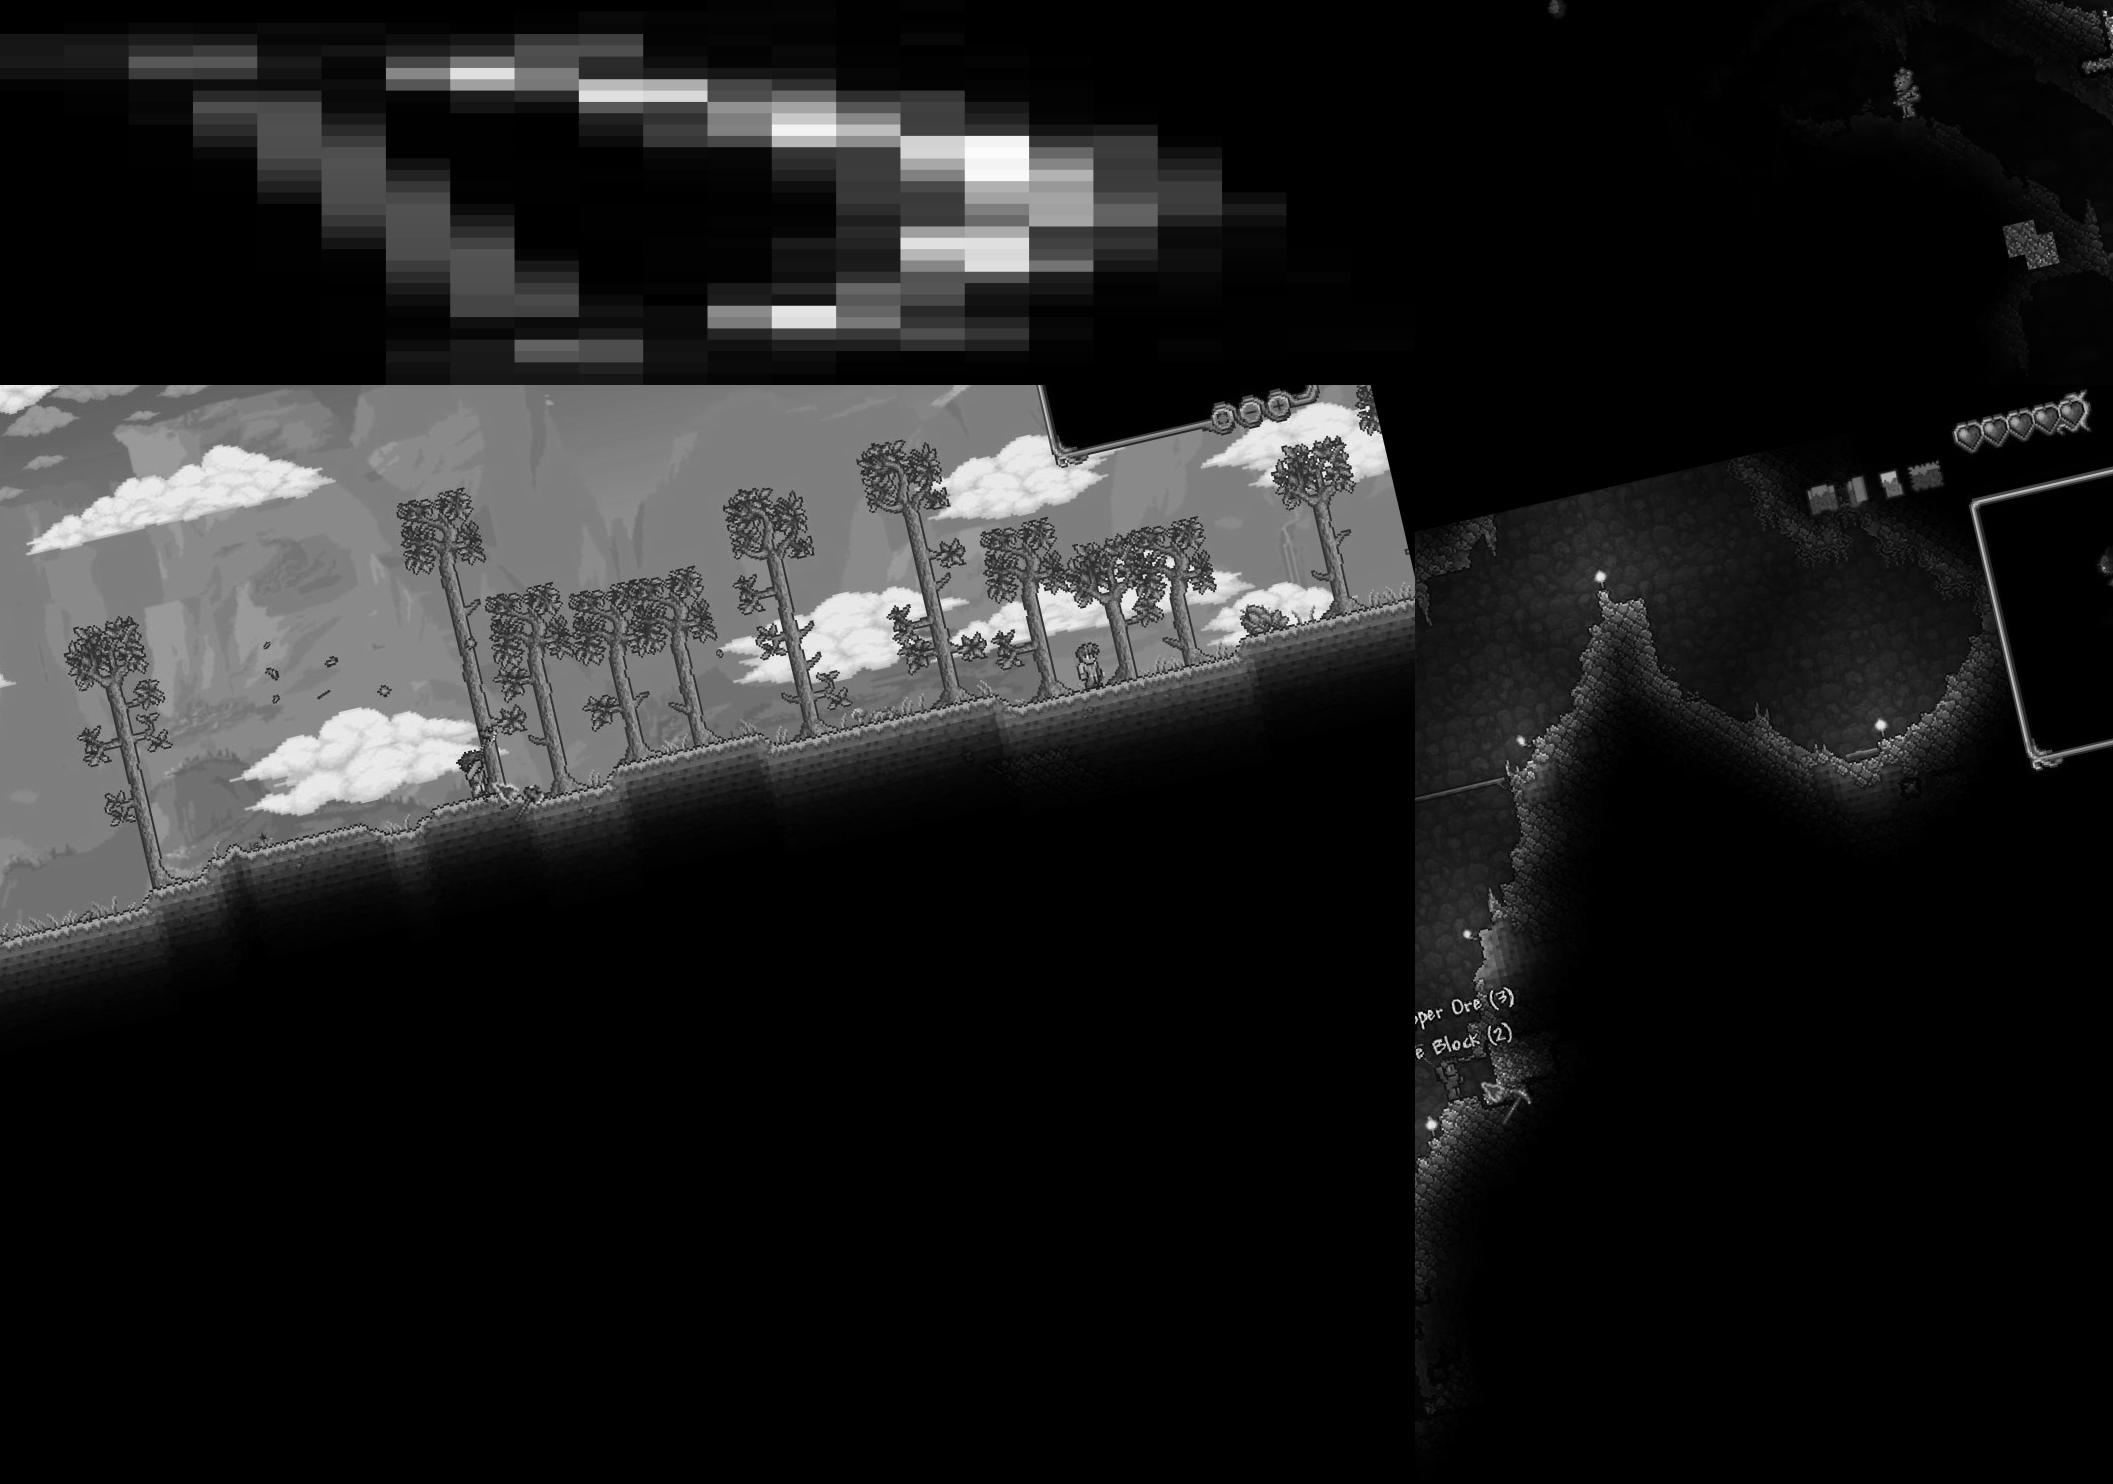bow: (0, 0, 1415, 385)
heart: (1951, 419, 1988, 456)
